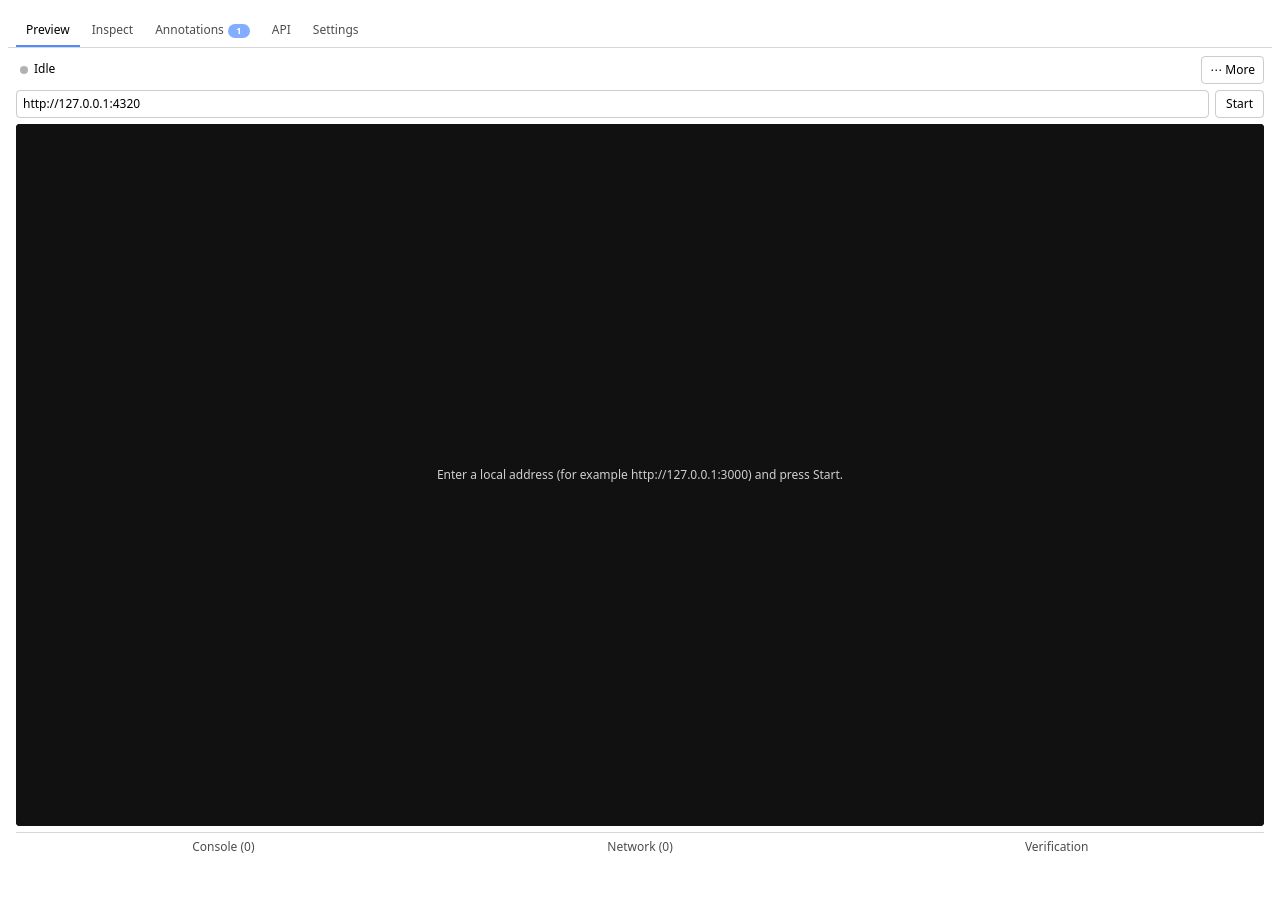
Test: StudioShell × annotation queue › renders queued drafts and a count badge that stays out of the tab name
The image size is (1280, 900).
Expected: the text "1" is shown, [228,24,250,38]
Click the tab "Annotations 1": {"x": 203, "y": 30} [145,14,260,47]
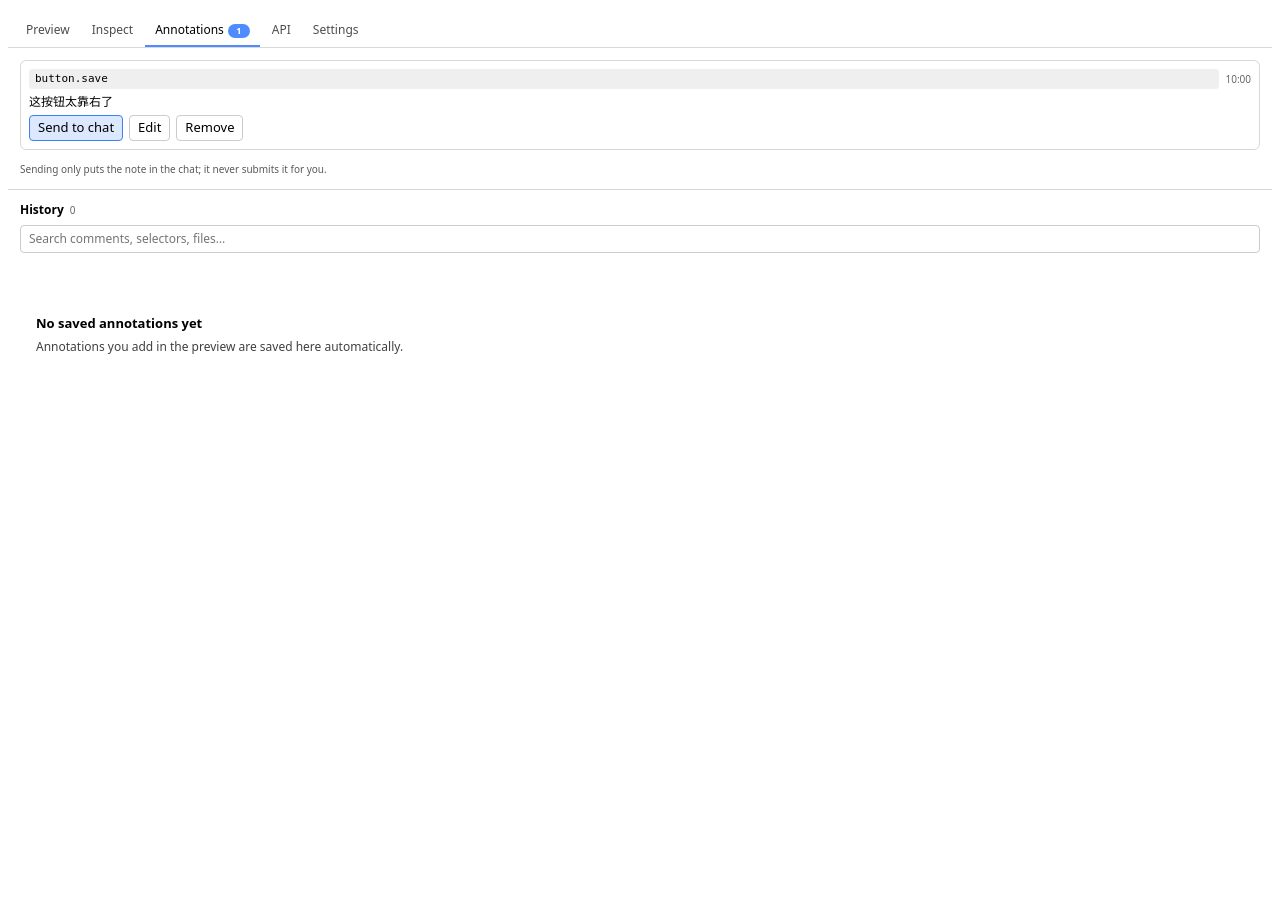
Expected: the text "这按钮太靠右了" is shown, [29,93,113,110]
Expected: the button "Send to chat" is shown, [29,115,123,141]
